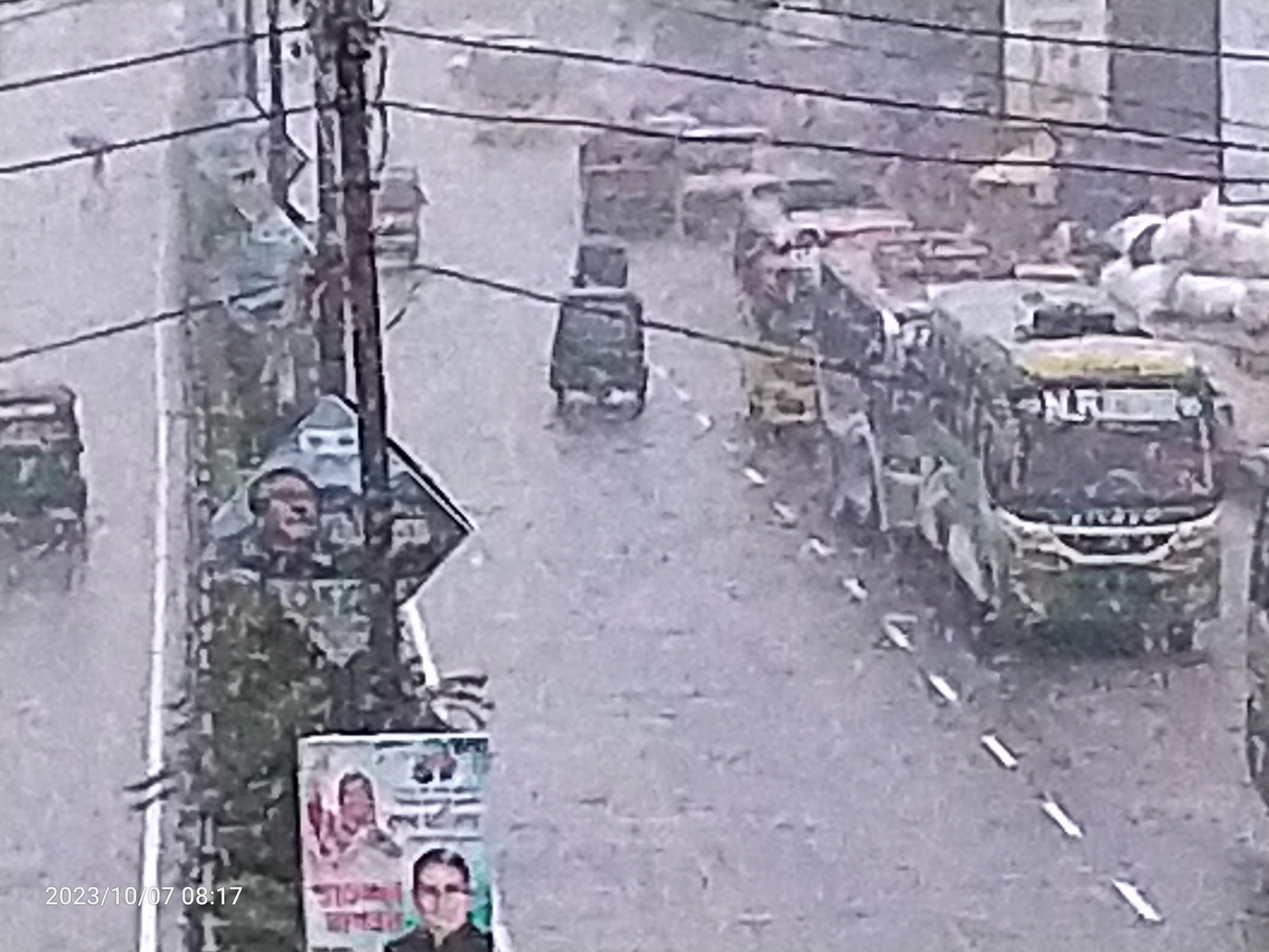Bus: (906, 257, 1246, 677), (798, 234, 1005, 562), (707, 193, 841, 456), (437, 21, 562, 164)
Car: (319, 143, 435, 281)
